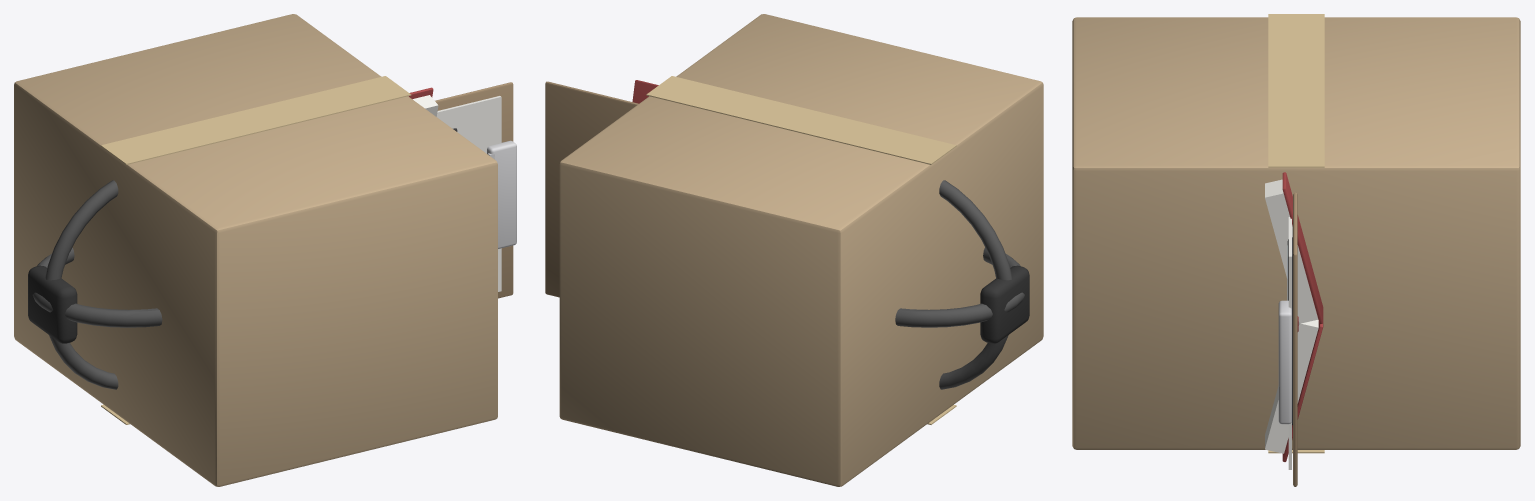
Rendered from HandProps.glb.
The picture shows the model from 3 angles, left to right: view 1: azimuth 30°, elevation 25°; view 2: azimuth 150°, elevation 25°; view 3: azimuth 270°, elevation 25°; orthographic projection. The views are drawn at different scales.
Visible parts, largest first — view 1: prop__box, prop__headset, prop__clipboard; view 2: prop__box, prop__headset, prop__clipboard; view 3: prop__box, prop__book, prop__clipboard.
Boxes of the visible parts, x1,y1,x2,y2 form: prop__box: (14,14,497,486); prop__headset: (28,180,162,389); prop__clipboard: (435,82,516,298); prop__box: (559,14,1043,486); prop__headset: (895,180,1029,389); prop__clipboard: (545,81,638,297); prop__box: (1072,14,1520,453); prop__book: (1265,172,1323,461); prop__clipboard: (1278,192,1297,486).
Size of the model in its own units: 0.534 by 0.2822 by 0.4.
